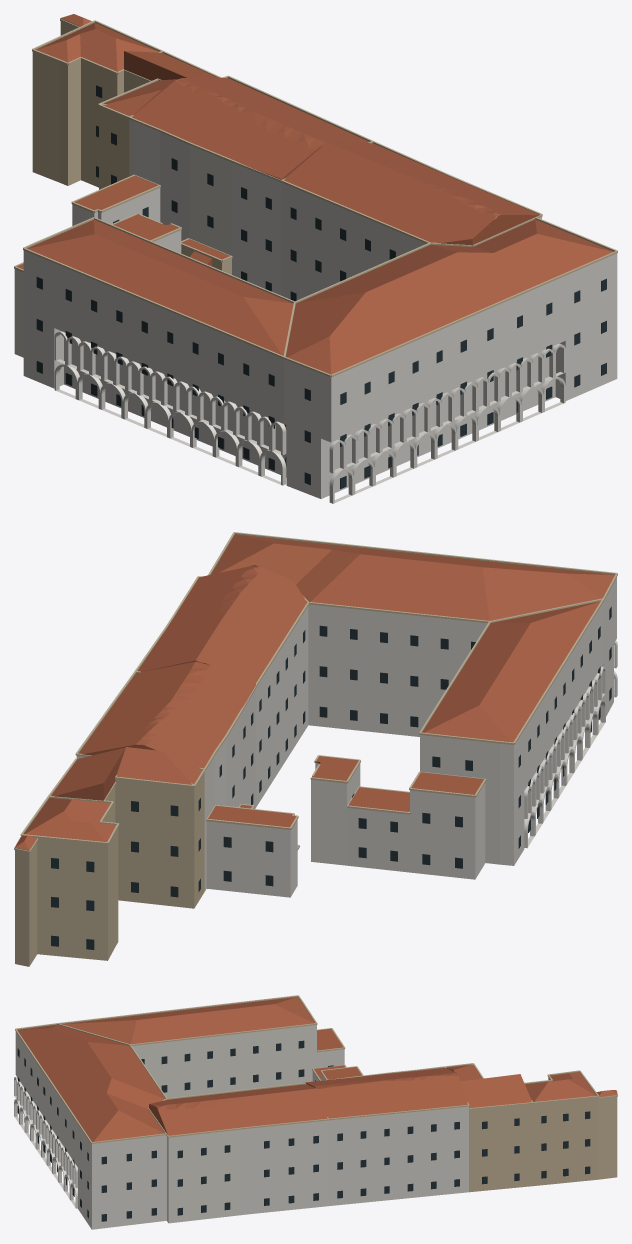
File: doges-palace.glb
3 views of the same model, one above another, from view 1: azimuth 30°, elevation 25°; view 2: azimuth 150°, elevation 25°; view 3: azimuth 270°, elevation 25° (orthographic). The views are drawn at different scales.
Visible parts, largest first — view 1: mapped-part (×2), mapped-roof, open-loggia, cornice, window-rhythm; view 2: mapped-part (×2), mapped-roof, cornice, window-rhythm, open-loggia, primary-envelope; view 3: mapped-part (×2), mapped-roof, cornice, window-rhythm, open-loggia, primary-envelope.
Part boxes in pixels (bbox=[...]): mapped-part (×2): bbox=[14, 52, 617, 498]; mapped-roof: bbox=[17, 22, 613, 374]; open-loggia: bbox=[54, 331, 565, 503]; cornice: bbox=[14, 18, 617, 377]; window-rhythm: bbox=[36, 85, 606, 489]; mapped-part (×2): bbox=[37, 577, 616, 960]; mapped-roof: bbox=[24, 534, 614, 841]; cornice: bbox=[14, 532, 617, 852]; window-rhythm: bbox=[51, 606, 611, 949]; open-loggia: bbox=[524, 640, 617, 848]; primary-envelope: bbox=[15, 838, 37, 966]; mapped-part (×2): bbox=[15, 1025, 598, 1229]; mapped-roof: bbox=[17, 997, 596, 1141]; cornice: bbox=[15, 995, 617, 1143]; window-rhythm: bbox=[17, 1040, 590, 1221]; open-loggia: bbox=[14, 1077, 77, 1208]; primary-envelope: bbox=[598, 1095, 617, 1179].
Bounding box in the file's own units: 9.25 × 3.02 × 16.
